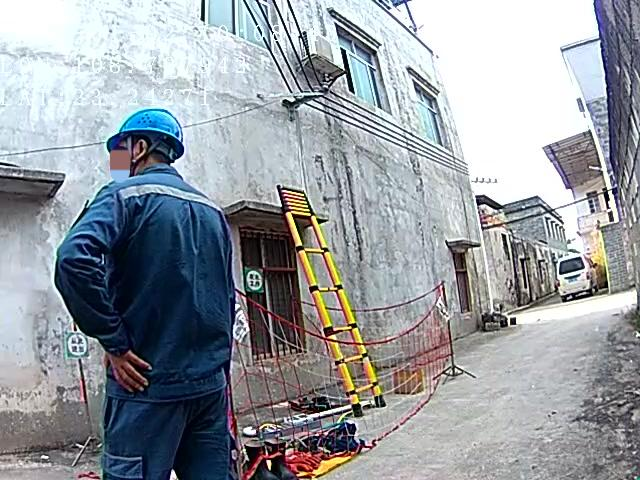halt: (110, 110, 188, 175)
inear: (123, 137, 156, 173)
